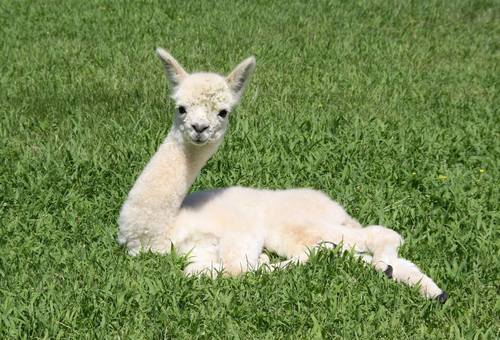alpaca: (118, 47, 446, 302)
